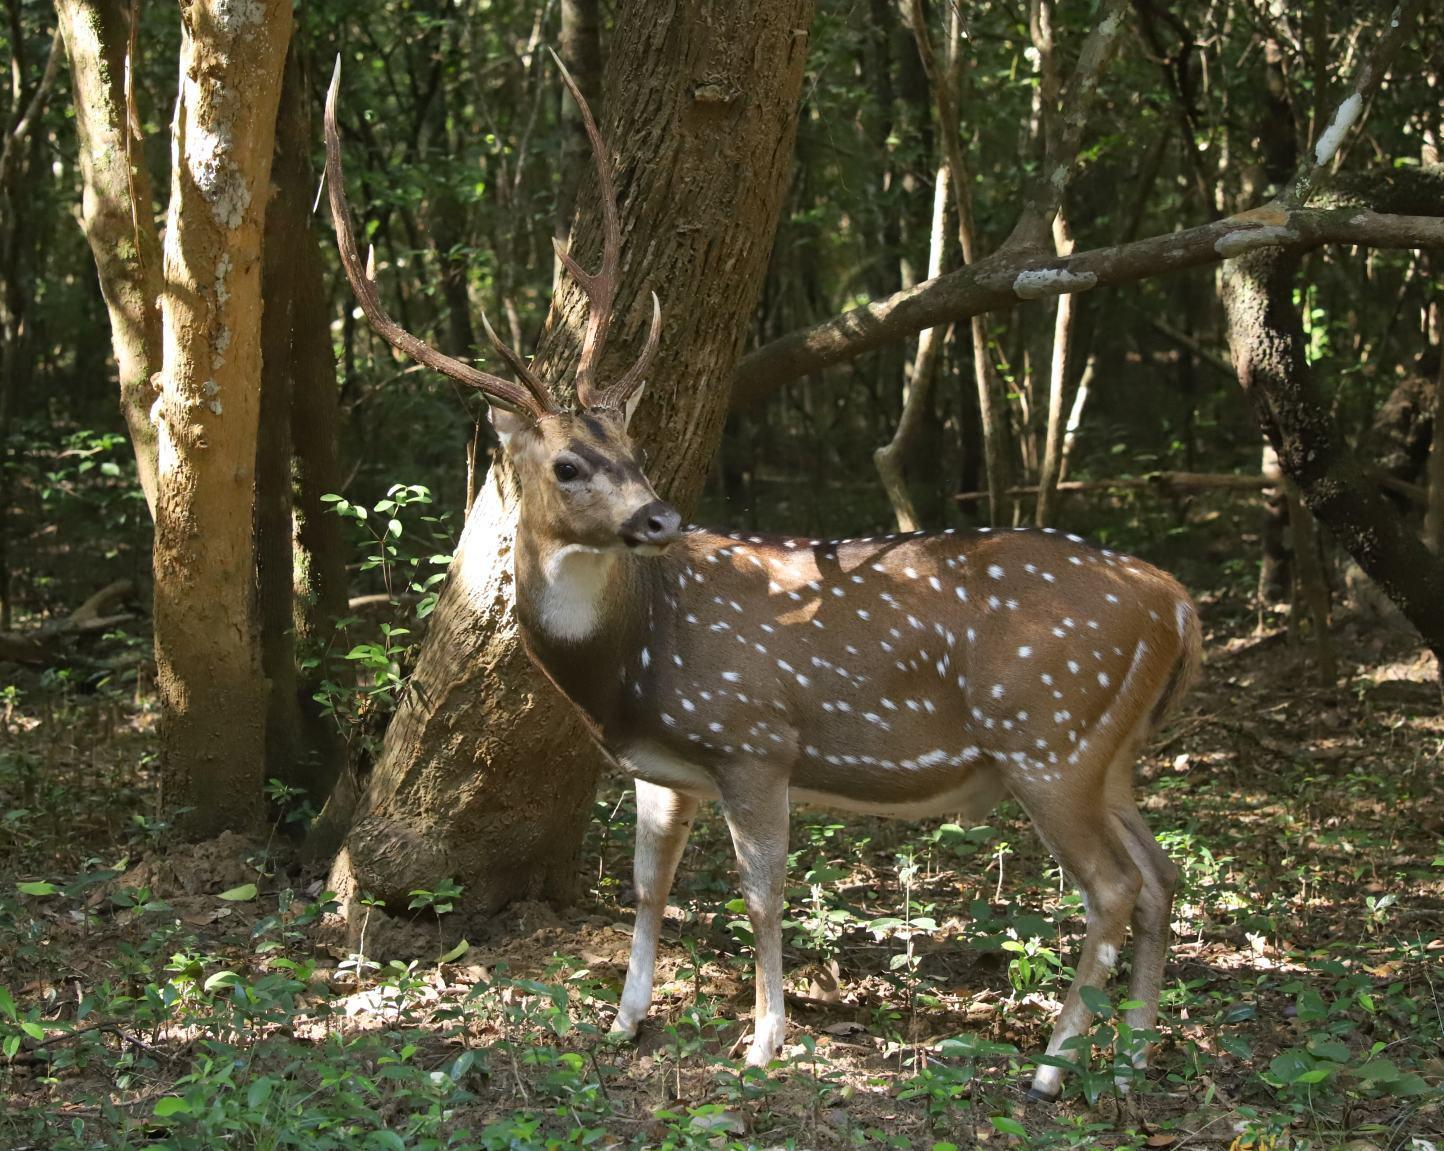Deer: (324, 63, 1199, 1065)
